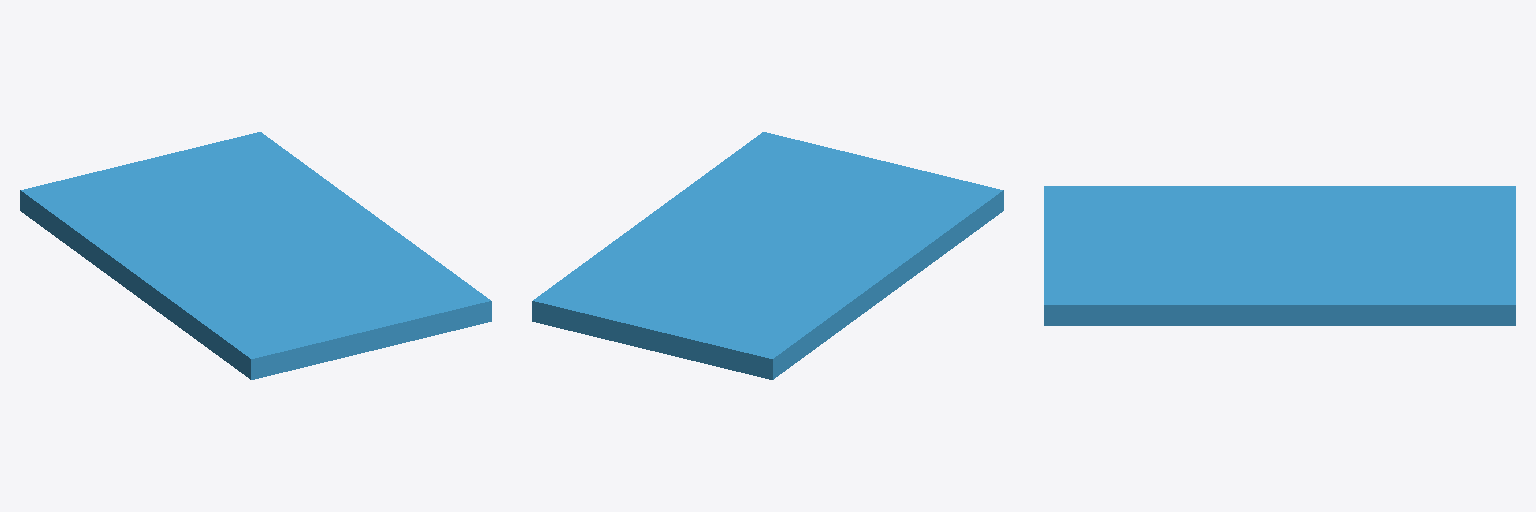
robot.urdf — surface:
<?xml version="1.0"?>
<robot name="surface">
  <link name="world" />

  <link name="table">
    <visual>
      <geometry>
	<box size="0.6 1 0.05" />
      </geometry>
    </visual>
    <collision>
      <geometry>
	<box size="0.6 1 0.05" />
      </geometry>
    </collision>
    <inertial>
      <mass value="100" />
      <inertia ixx="100" ixy="0" ixz="0" iyy="100" iyz="0" izz="100" />
    </inertial>
  </link>

  <joint name="fixed" type="fixed">
    <origin rpy="0 0 0" xyz="0.5 0 0.25" />
    <parent link="world" />
    <child link="table" />
  </joint>

</robot>

--- Render facts (derived) ---
3 views of the same robot in one strip: view 1: azimuth 30°, elevation 25°; view 2: azimuth 150°, elevation 25°; view 3: azimuth 270°, elevation 25° (orthographic).
Model surface with 2 links and 1 joints (1 fixed), rooted at world, posed every joint at zero.
Links seen in each view (by area): view 1: table; view 2: table; view 3: table.
Link boxes in pixels (box(x1,y1,x2,y2)): table: box(20, 132, 491, 379); table: box(532, 132, 1003, 379); table: box(1044, 186, 1515, 325).
Size in the robot's own frame: 0.6 by 1 by 0.05 metres.
Geometry: primitives only (box / cylinder / sphere), no mesh files.